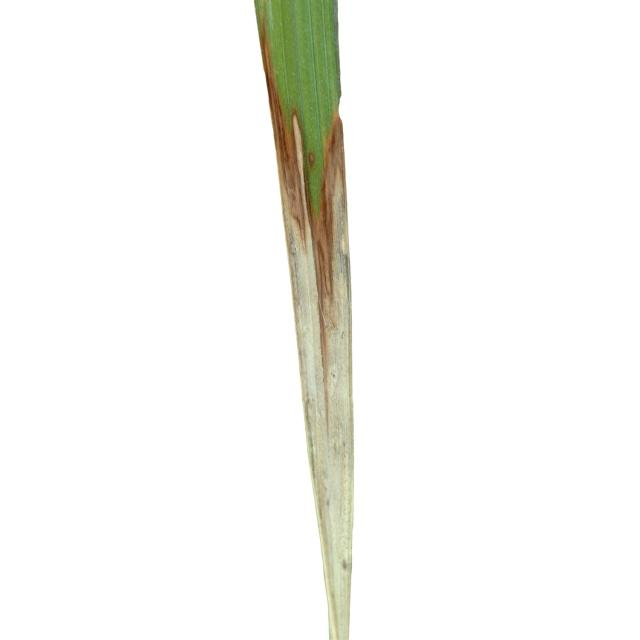Leaf scald: (190, 0, 426, 640)
